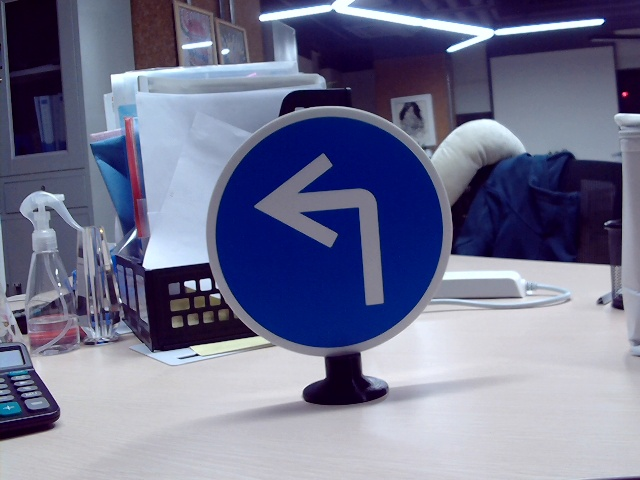turn_left: (253, 148, 392, 311)
